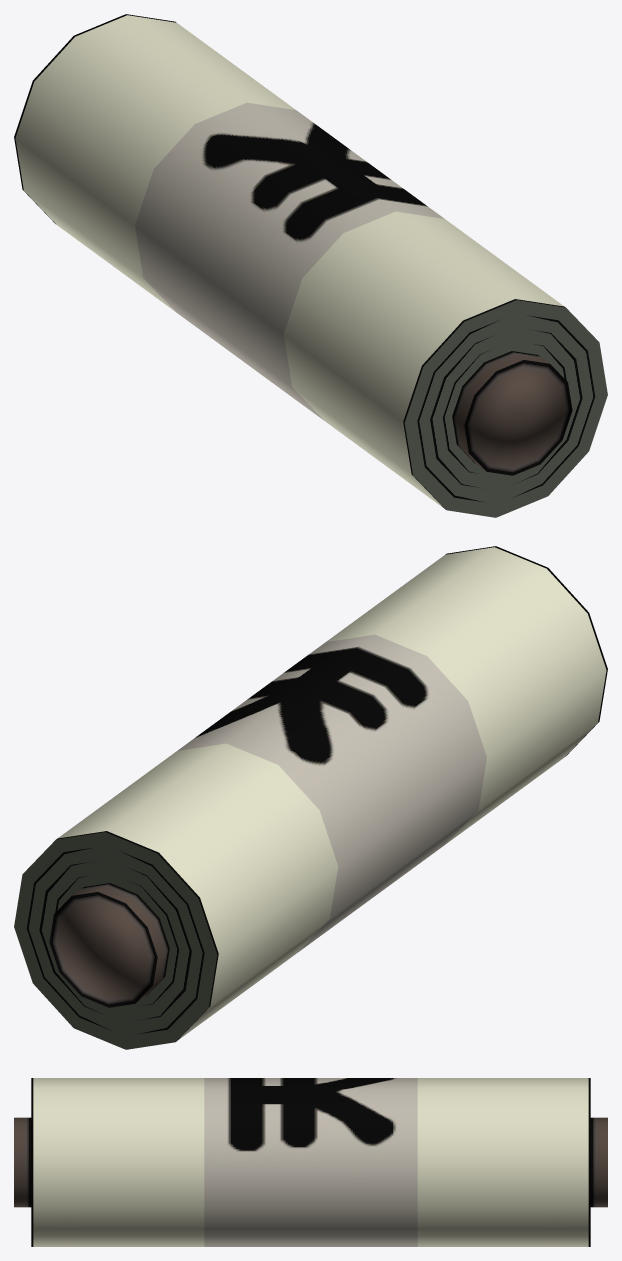
Rendered from Pergaminos.fbx.
The picture shows the model from 3 angles, top to bottom: view 1: azimuth 30°, elevation 25°; view 2: azimuth 150°, elevation 25°; view 3: azimuth 270°, elevation 25°; orthographic projection. The views are drawn at different scales.
Visible parts, largest first — view 1: Pergamino02; view 2: Pergamino02; view 3: Pergamino02.
Part boxes in pixels (box(x1,y1,x2,y2)): Pergamino02: box(14, 14, 607, 517); Pergamino02: box(14, 546, 607, 1049); Pergamino02: box(14, 1078, 607, 1246).
Bounding box in the file's own units: 6.97 × 6.97 × 24.63.
1 material, 1 textured.
